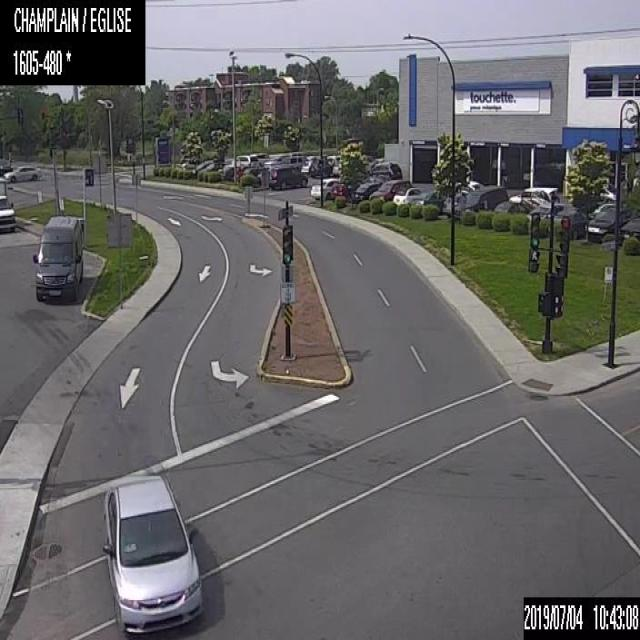vehicle: (99, 472, 205, 636), (32, 215, 82, 300), (455, 184, 508, 217), (584, 207, 630, 241), (546, 204, 586, 239), (508, 185, 560, 208), (268, 163, 308, 188), (369, 179, 413, 201), (0, 175, 15, 233), (494, 201, 530, 222), (526, 202, 563, 222), (310, 177, 340, 200), (392, 185, 428, 204), (368, 160, 402, 178), (351, 181, 380, 201), (618, 217, 639, 244), (4, 164, 37, 181), (442, 192, 464, 214), (424, 190, 445, 212), (587, 202, 615, 218), (310, 157, 332, 176), (236, 167, 262, 182), (230, 154, 258, 167), (454, 180, 482, 193), (596, 186, 614, 204), (192, 159, 212, 174), (202, 161, 225, 174), (331, 181, 347, 199), (248, 151, 268, 165), (289, 150, 304, 167), (300, 154, 314, 172), (219, 163, 233, 179), (264, 156, 282, 168), (0, 162, 13, 175), (326, 154, 342, 164)
